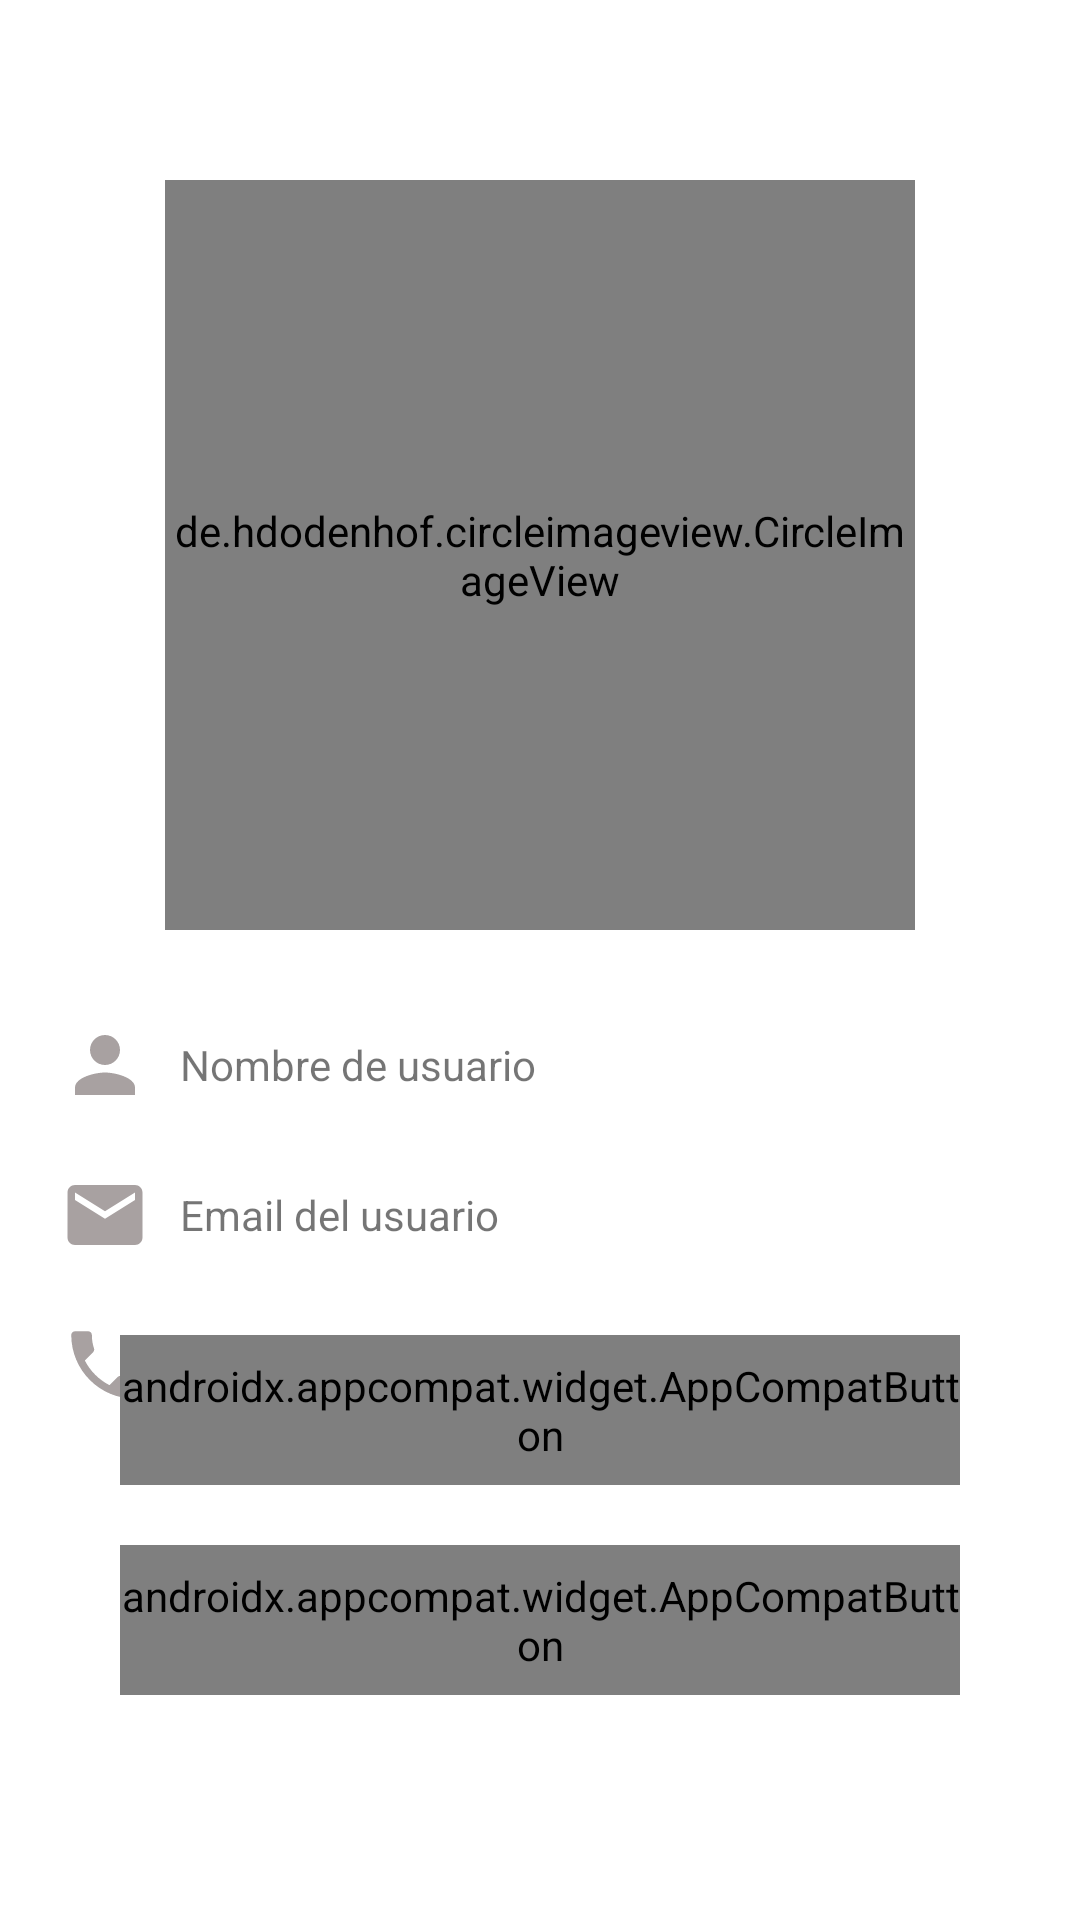

Icon click points for this 1080px x 1920px phone screenshot, format point (x, y):
person: point (105, 1065)
